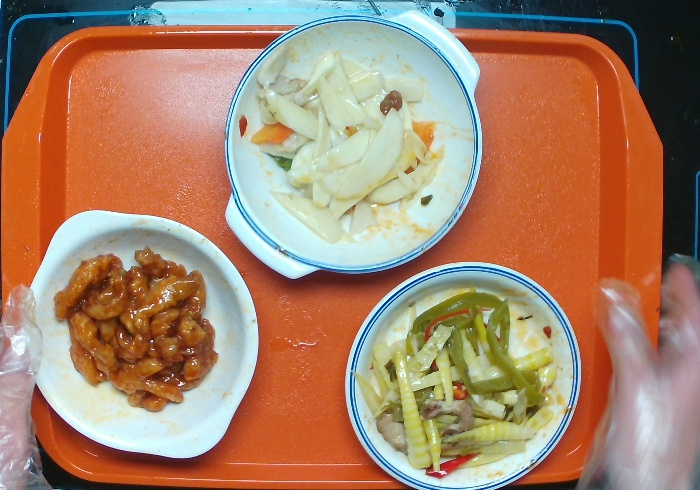HZYJPL-Dai_Er_Bai_Yuan_Wan: (20, 208, 262, 462)
HZYJPL-Lan_Bian_Dai_Er_Wan: (224, 6, 488, 280)
HZYJPL-Lan_Bian_Yuan_Die: (344, 261, 585, 490)
